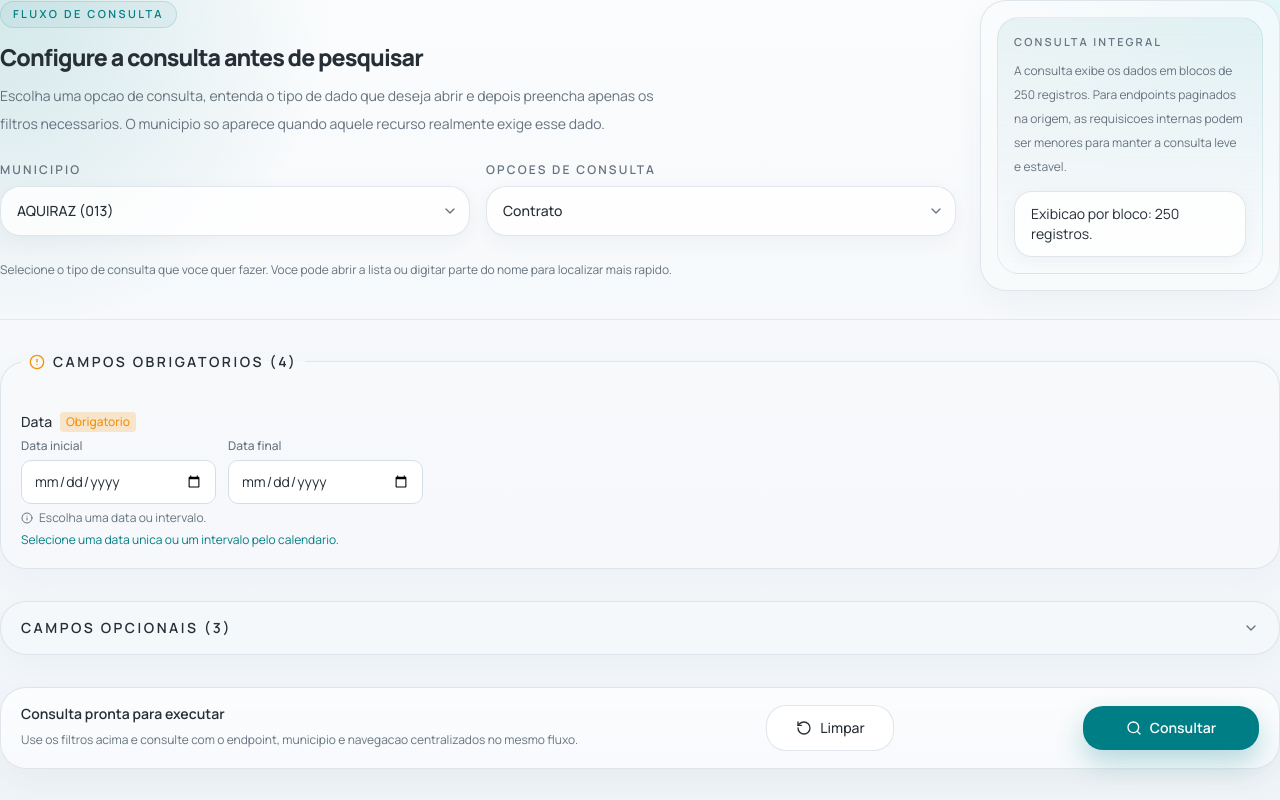
QueryForm › highlights required fields in red when submitting with missing values
The width and height of the screenshot is (1280, 800).
Click the button "Consultar" at (1171, 728), box top-left (1083, 706), bottom-right (1259, 750)
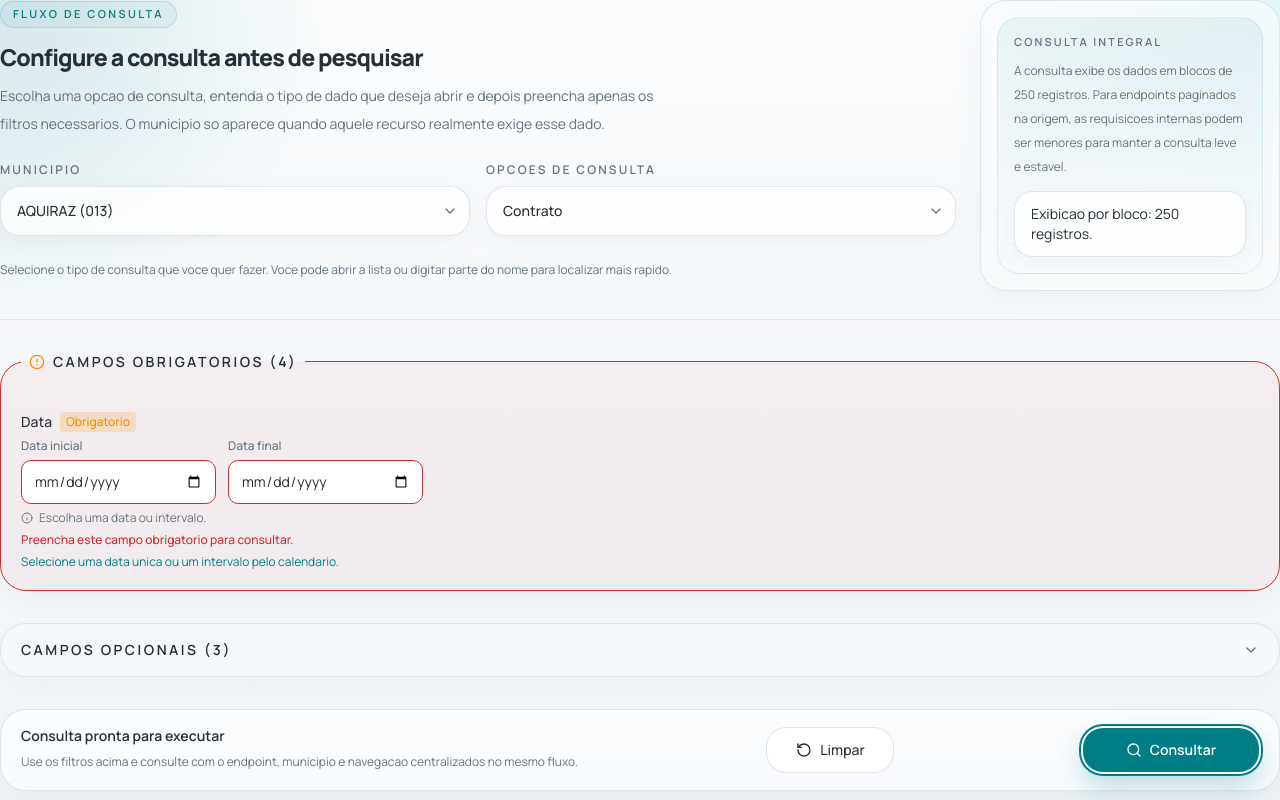
Check: the text "Preencha este campo obrigatorio para consultar." is shown, box top-left (21, 530), bottom-right (294, 548)
